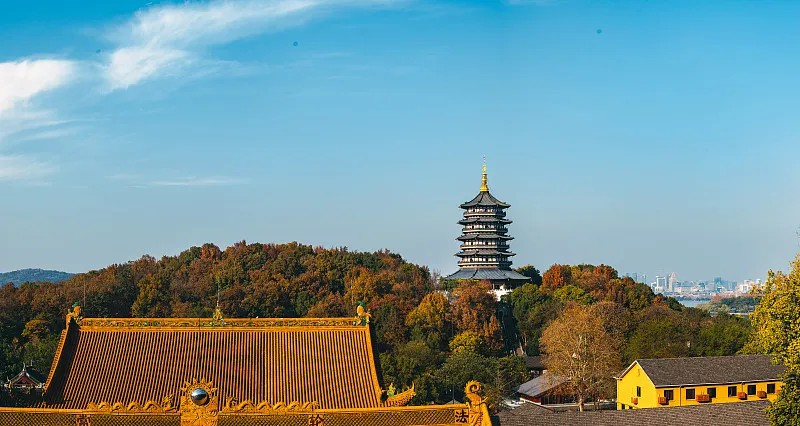Leifeng: (438, 159, 530, 288)
